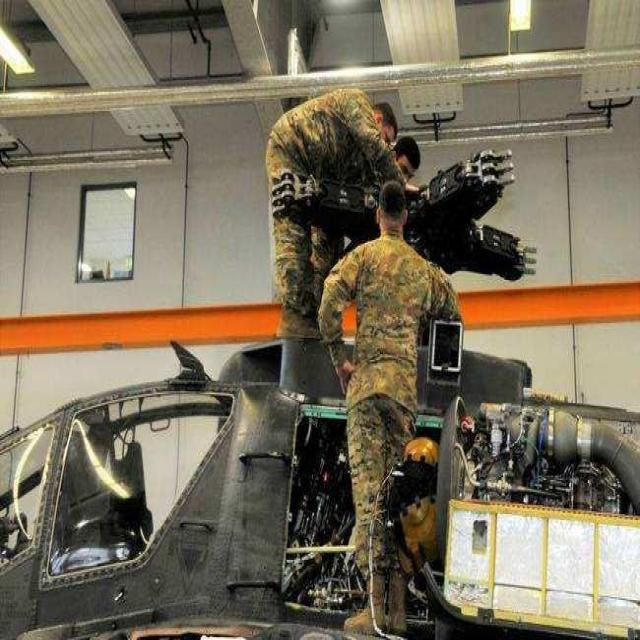MIL_HELO: (0, 139, 634, 640)
